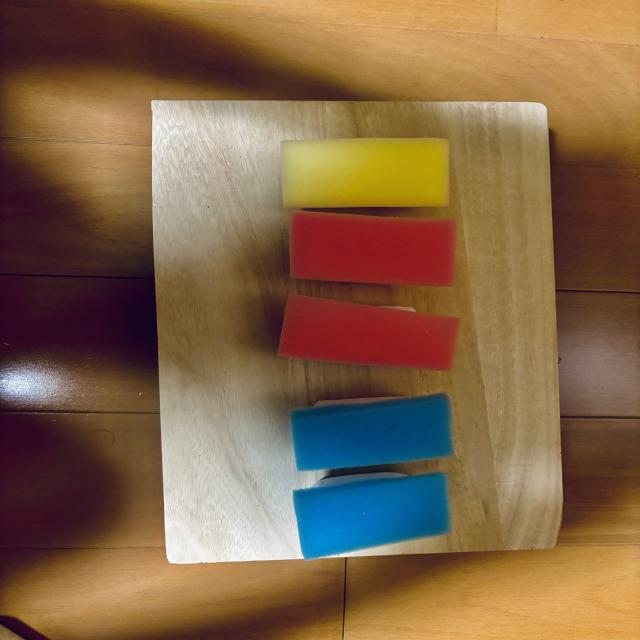ika: (293, 472, 450, 559), (290, 393, 454, 471)
tai: (278, 295, 460, 371), (289, 211, 456, 286)
tamago: (281, 138, 449, 207)
